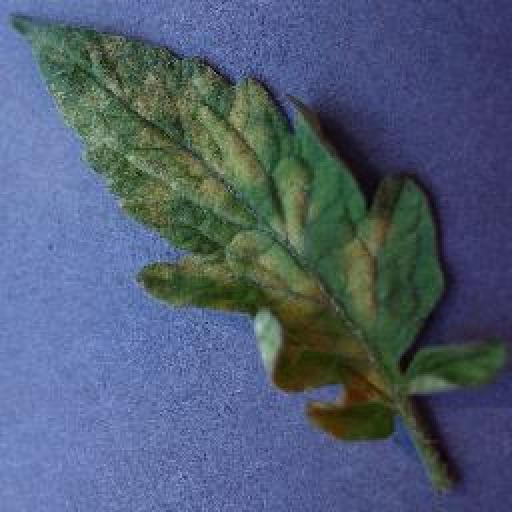disease_tomato: (12, 10, 508, 444)
